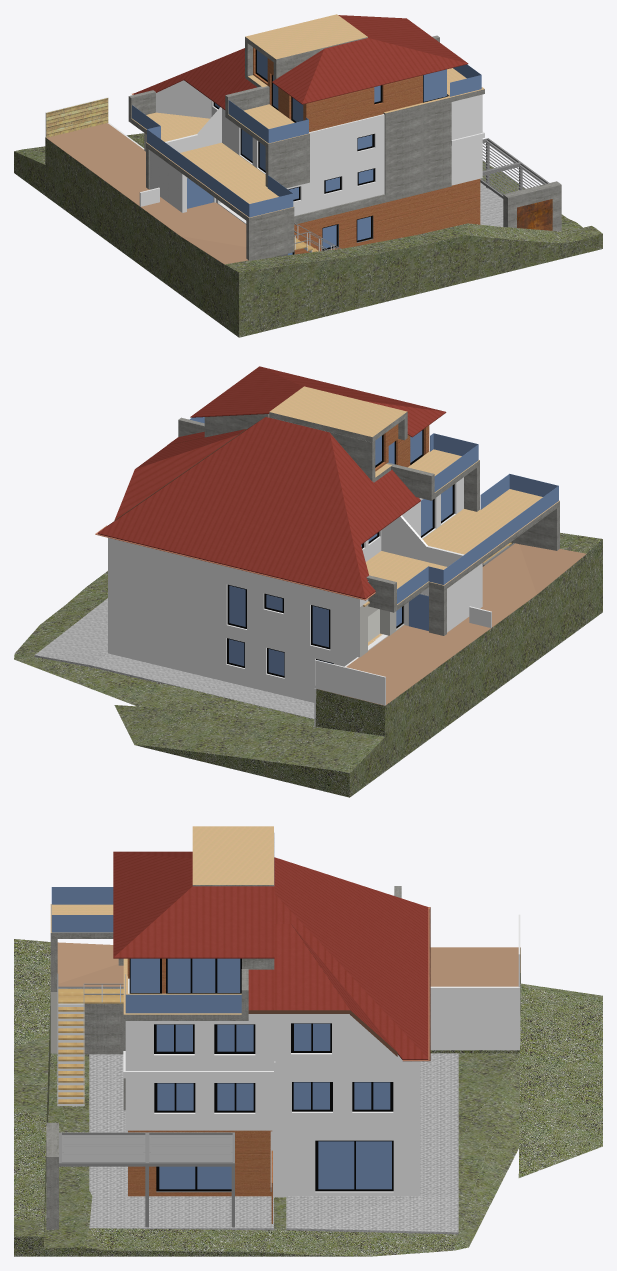
The model's file is stodul2.glb.
3 renders of one model, top to bottom at view 1: azimuth 30°, elevation 25°; view 2: azimuth 150°, elevation 25°; view 3: azimuth 270°, elevation 25°, orthographic. The views are drawn at different scales.
Parts seen in each view (by area): view 1: Toposolid Toposolid <20279369 Terénní útvar 1<, Toposolid Toposolid <20266496 Terénní útvar 1<, FootPrintRoof Roofs <20652048 25-Střecha 4<, Toposolid Toposolid <20576967 Sub-Division<, Wall Walls <20628589 0 Stěna 475původní +prkna<, Wall Walls <20652122 Stěna beton 90<, Floor Floors <20651993 25-balkon<, Floor Floors <20651930 25-balkon<, Wall Walls <20646912 0 Stěna 475 - přitepli2 2<, FootPrintRoof Roofs <20655058 25-Střecha 4<, Wall Walls <20646845 0 Stěna 475 - přitepli2 2<, Railing Railings <20652002 Zábradlí_jen sklo< (+29 smaller); view 2: FootPrintRoof Roofs <20655058 25-Střecha 4<, Toposolid Toposolid <20266496 Terénní útvar 1<, Toposolid Toposolid <20279369 Terénní útvar 1<, Wall Walls <20266477 0 Stěna 475původní<, Wall Walls <20655177 0 Stěna 475původní<, Toposolid Toposolid <20576967 Sub-Division<, Floor Floors <20600366 dlažba-terasa v zahradě<, Floor Floors <20651993 25-balkon<, FootPrintRoof Roofs <20652048 25-Střecha 4<, Floor Floors <20651930 25-balkon<, RoofBase Roofs <20655270 Střecha 4<, Railing Railings <20652002 Zábradlí_jen sklo< (+21 smaller); view 3: Toposolid Toposolid <20279369 Terénní útvar 1<, Toposolid Toposolid <20266496 Terénní útvar 1<, FootPrintRoof Roofs <20655058 25-Střecha 4<, FootPrintRoof Roofs <20652048 25-Střecha 4<, Floor Floors <20600366 dlažba-terasa v zahradě<, Floor Floors <20576661 dlažba-terasa v zahradě<, Toposolid Toposolid <20576967 Sub-Division<, FamilyInstance Generic Models Generic Models 3 <20629220 Gen, Wall Walls <20387074 0 Stěna 475původní<, Wall Walls <20646853 0 Stěna 475 - přitepli2 2<, RoofBase Roofs <20655270 Střecha 4<, Wall Walls <20266478 0 Stěna 475původní< (+28 smaller).
Boxes of the visible parts, x1,y1,x2,y2 form: Toposolid Toposolid <20279369 Terénní útvar 1<: (14, 133, 602, 337); Toposolid Toposolid <20266496 Terénní útvar 1<: (45, 137, 582, 326); FootPrintRoof Roofs <20652048 25-Střecha 4<: (272, 15, 468, 104); Toposolid Toposolid <20576967 Sub-Division<: (46, 123, 248, 264); Wall Walls <20628589 0 Stěna 475původní +prkna<: (294, 180, 473, 254); Wall Walls <20652122 Stěna beton 90<: (384, 102, 451, 202); Floor Floors <20651993 25-balkon<: (131, 112, 294, 222); Floor Floors <20651930 25-balkon<: (245, 14, 367, 63); Wall Walls <20646912 0 Stěna 475 - přitepli2 2<: (317, 114, 384, 173); FootPrintRoof Roofs <20655058 25-Střecha 4<: (133, 48, 245, 105); Wall Walls <20646845 0 Stěna 475 - přitepli2 2<: (317, 157, 384, 210); Railing Railings <20652002 Zábradlí_jen sklo<: (165, 142, 293, 217); FootPrintRoof Roofs <20655058 25-Střecha 4<: (97, 416, 401, 599); Toposolid Toposolid <20266496 Terénní útvar 1<: (14, 554, 586, 771); Toposolid Toposolid <20279369 Terénní útvar 1<: (114, 532, 602, 797); Wall Walls <20266477 0 Stěna 475původní<: (108, 596, 356, 702); Wall Walls <20655177 0 Stěna 475původní<: (116, 547, 364, 657); Toposolid Toposolid <20576967 Sub-Division<: (317, 543, 586, 705); Floor Floors <20600366 dlažba-terasa v zahradě<: (34, 598, 314, 719); Floor Floors <20651993 25-balkon<: (366, 489, 559, 610); FootPrintRoof Roofs <20652048 25-Střecha 4<: (190, 366, 446, 437); Floor Floors <20651930 25-balkon<: (269, 386, 407, 442); RoofBase Roofs <20655270 Střecha 4<: (114, 429, 246, 520); Railing Railings <20652002 Zábradlí_jen sklo<: (464, 473, 558, 569); Toposolid Toposolid <20279369 Terénní útvar 1<: (14, 939, 602, 1256); Toposolid Toposolid <20266496 Terénní útvar 1<: (44, 948, 520, 1256); FootPrintRoof Roofs <20655058 25-Střecha 4<: (274, 857, 428, 1059); FootPrintRoof Roofs <20652048 25-Střecha 4<: (113, 851, 274, 958); Floor Floors <20600366 dlažba-terasa v zahradě<: (286, 1053, 458, 1234); Floor Floors <20576661 dlažba-terasa v zahradě<: (89, 1054, 273, 1230); Toposolid Toposolid <20576967 Sub-Division<: (57, 942, 520, 986); FamilyInstance Generic Models Generic Models 3 <20629220 Gen: (59, 1132, 234, 1166); Wall Walls <20387074 0 Stěna 475původní<: (430, 986, 520, 1050); Wall Walls <20646853 0 Stěna 475 - přitepli2 2<: (125, 1061, 275, 1130); RoofBase Roofs <20655270 Střecha 4<: (274, 924, 397, 1056); Wall Walls <20266478 0 Stěna 475původní<: (272, 1129, 409, 1197).
Bounding box in the file's own units: 24.18 × 12.87 × 25.9.
Materials: 30 (11 with a texture image).
